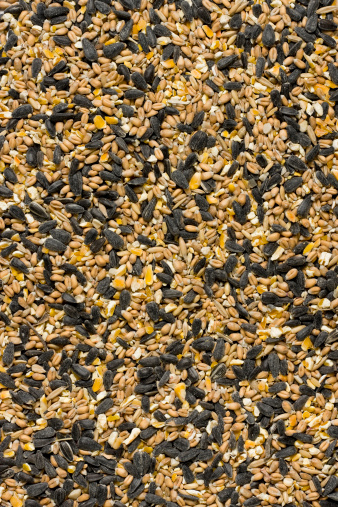seed: (1, 1, 338, 507)
